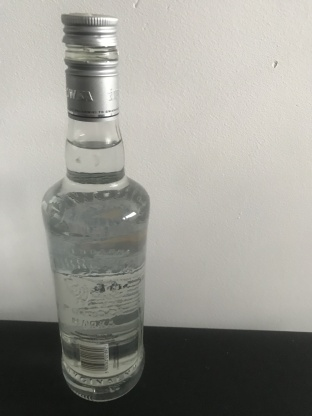nakretka: (59, 9, 121, 122)
